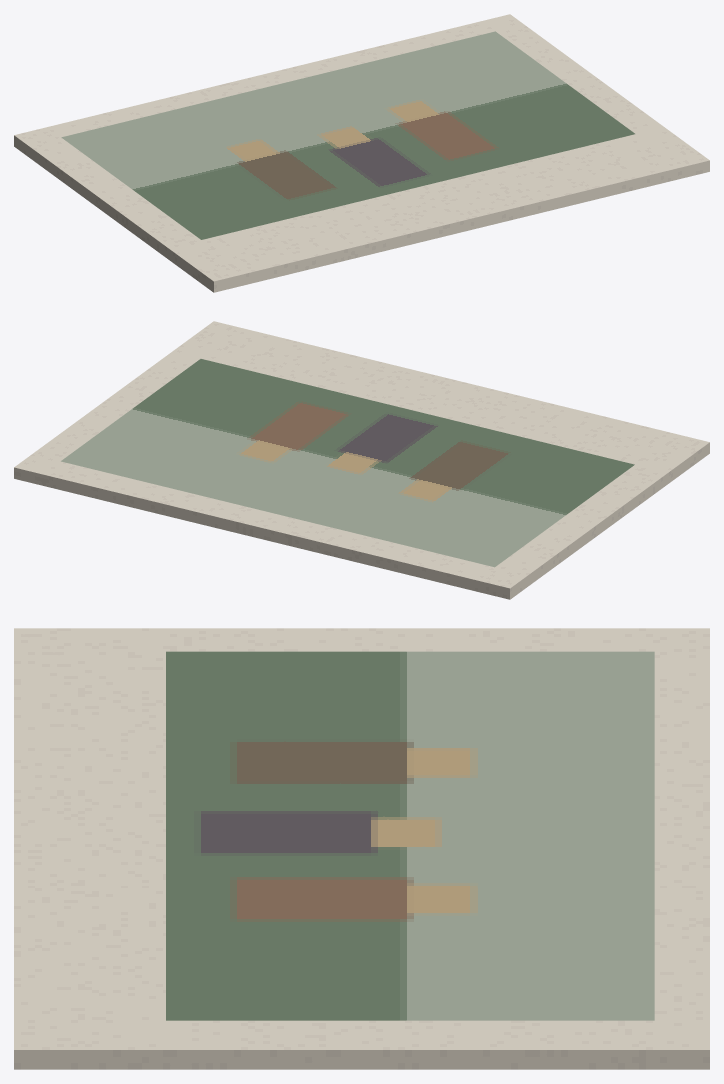
The model's file is wallet_photo.glb.
3 renders of one model, top to bottom at view 1: azimuth 30°, elevation 25°; view 2: azimuth 150°, elevation 25°; view 3: azimuth 270°, elevation 25°, orthographic. The views are drawn at different scales.
Parts seen in each view (by area): view 1: block_printed family photograph, block_photograph card; view 2: block_printed family photograph, block_photograph card; view 3: block_printed family photograph, block_photograph card.
Boxes of the visible parts, left/top/right/bottom form: block_printed family photograph: left=61, top=31, right=634, bottom=239; block_photograph card: left=14, top=14, right=709, bottom=292; block_printed family photograph: left=61, top=359, right=634, bottom=567; block_photograph card: left=14, top=321, right=709, bottom=599; block_printed family photograph: left=166, top=651, right=654, bottom=1020; block_photograph card: left=14, top=628, right=709, bottom=1069.
Size of the model in its own units: 0.081 by 0.00206 by 0.0565.
1 material, 1 textured.
